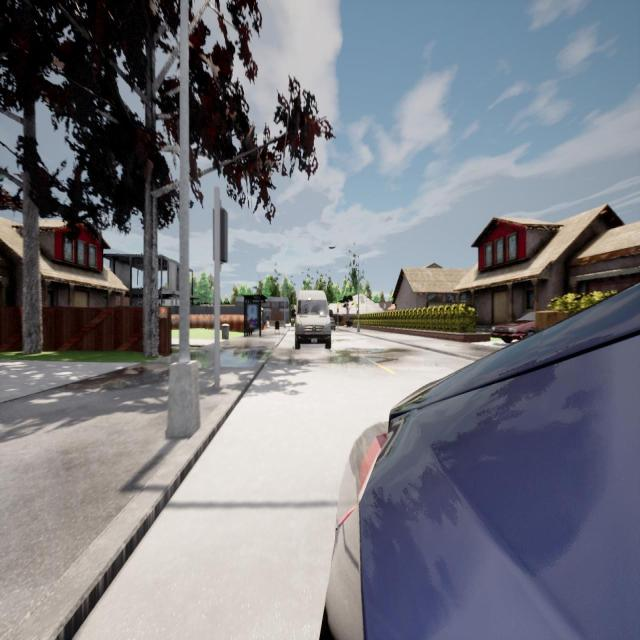Vehicle: (320, 285, 639, 638), (294, 286, 333, 350), (488, 306, 540, 348), (329, 314, 336, 333)
traffic_light: (212, 209, 228, 262)
